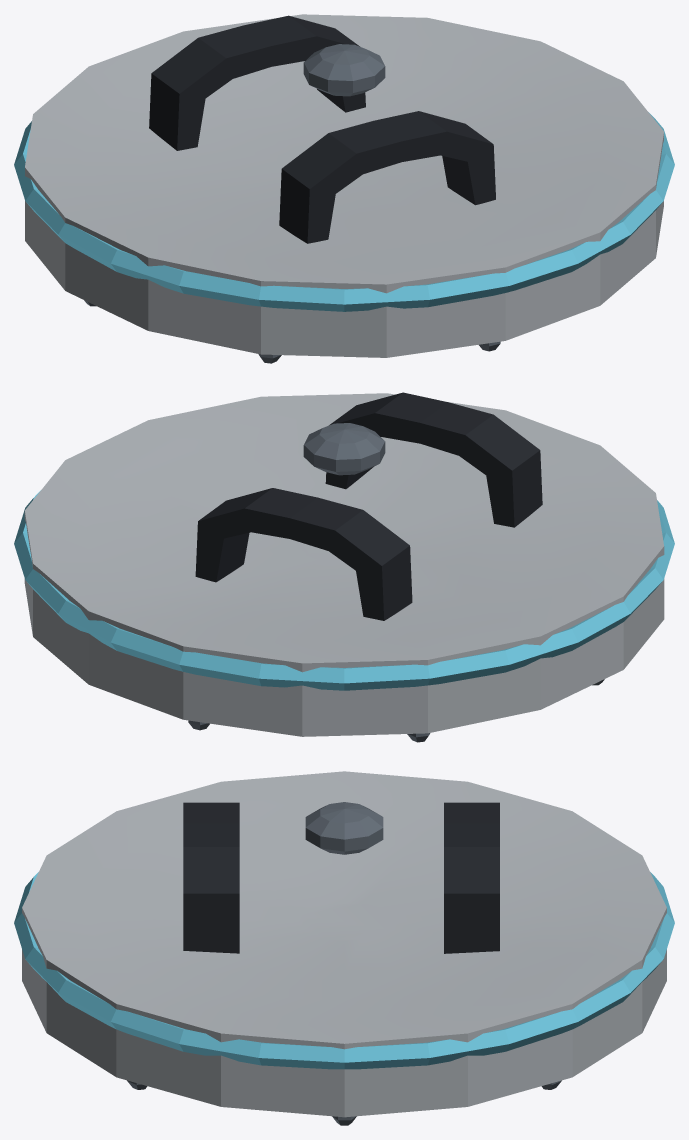
File: vibroshield.glb
The picture shows the model from 3 angles, top to bottom: view 1: azimuth 30°, elevation 25°; view 2: azimuth 150°, elevation 25°; view 3: azimuth 270°, elevation 25°; orthographic projection.
Visible parts, largest first — view 1: m; view 2: m; view 3: m.
Boxes of the visible parts, x1,y1,x2,y2 form: m: (14, 14, 674, 363); m: (14, 392, 674, 742); m: (14, 771, 674, 1125).
Bounding box in the file's own units: 0.45 × 0.152 × 0.45.
